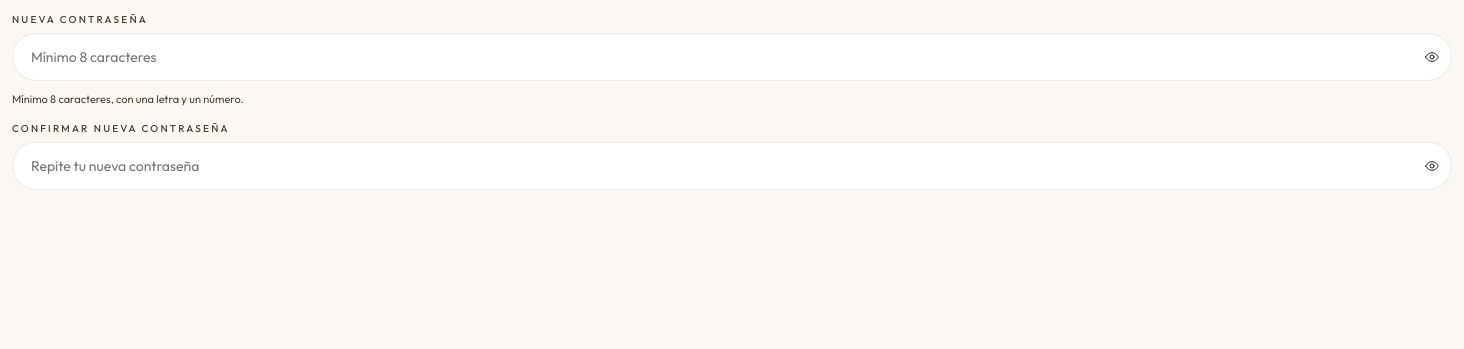
Scenario: ResetPasswordForm › blocks submit when the password is weak or the confirmation does not match
Type "short" into the password field with placeholder "Mínimo 8 caracteres" at (732, 57), box [12,33,1452,81]
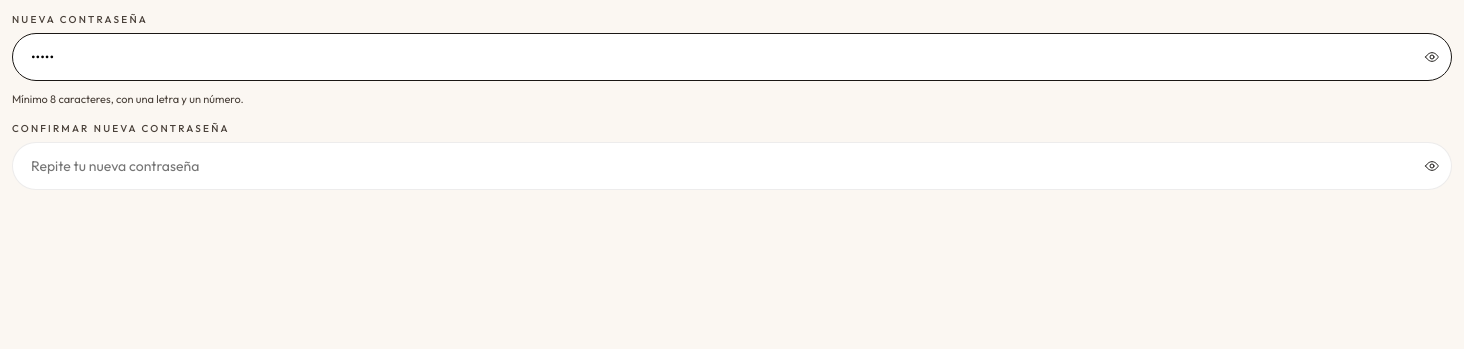
Type "other" into the password field with placeholder "Repite tu nueva contraseña" at (732, 166), box [12,142,1452,190]
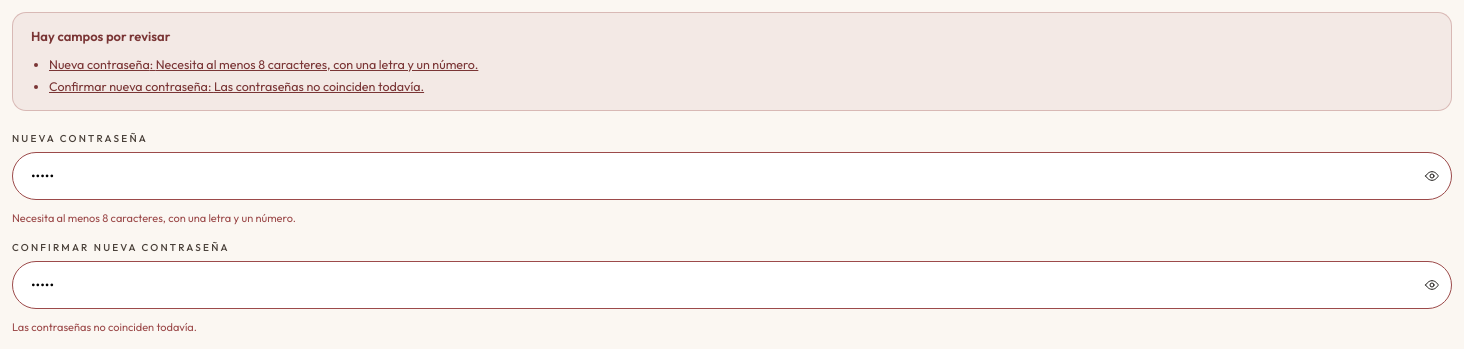
Check: the text "Hay campos por revisar" is shown, box [31,28,170,44]
